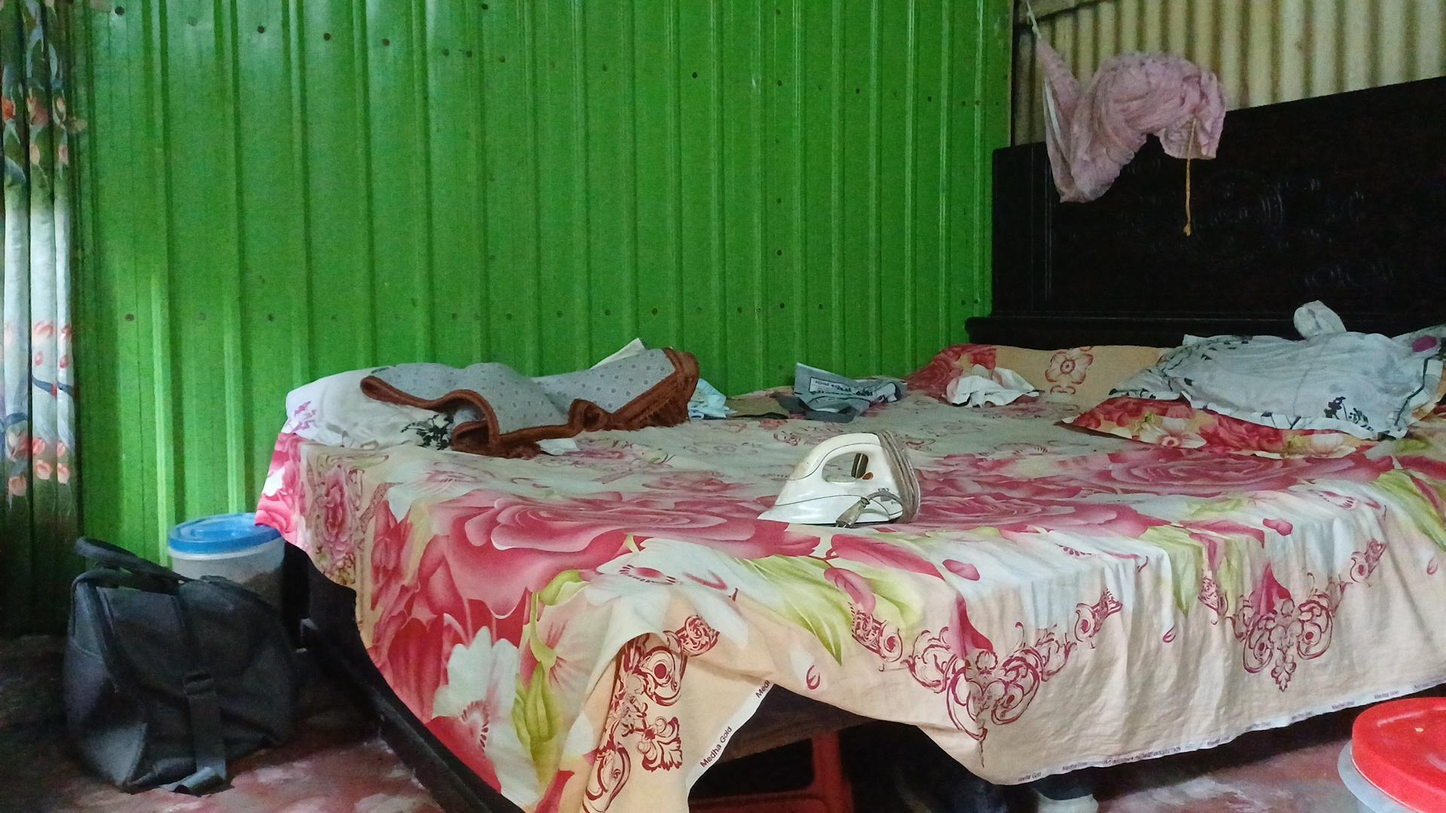Bag: (47, 525, 351, 795)
Electric Iron: (757, 435, 961, 540)
Pillow: (1072, 309, 1442, 516)
